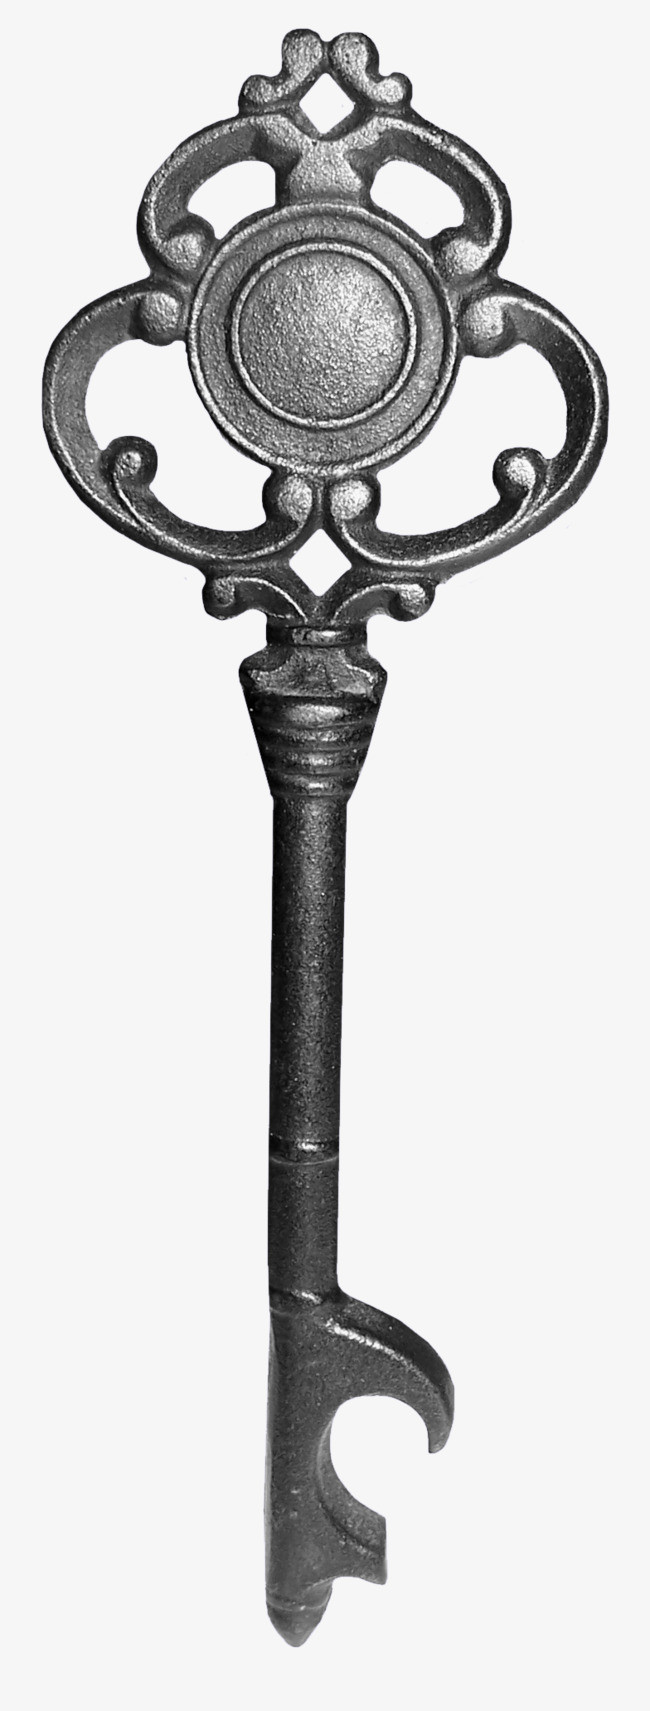key: (15, 13, 622, 1643)
